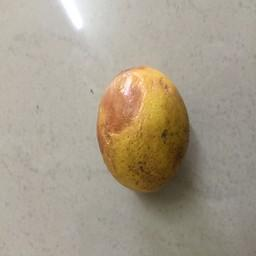Bad_lime: (93, 63, 194, 192)
